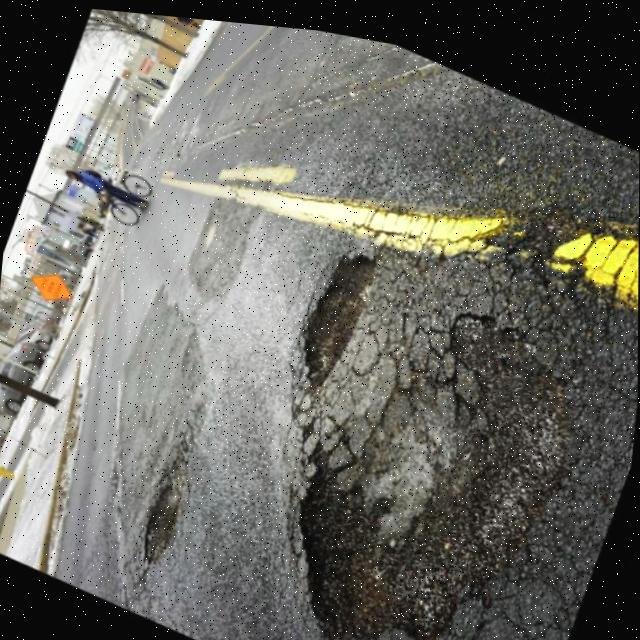Pothole: (240, 196, 610, 640), (275, 225, 385, 399), (127, 460, 195, 566)
